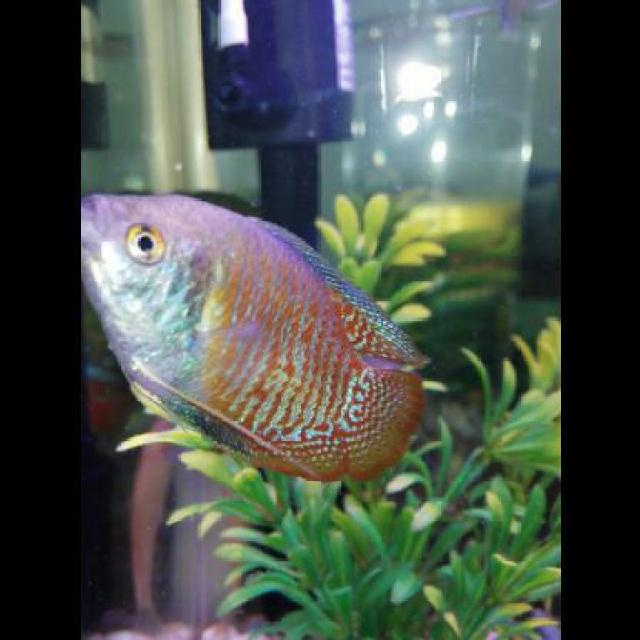Gourami: (83, 192, 431, 478)
